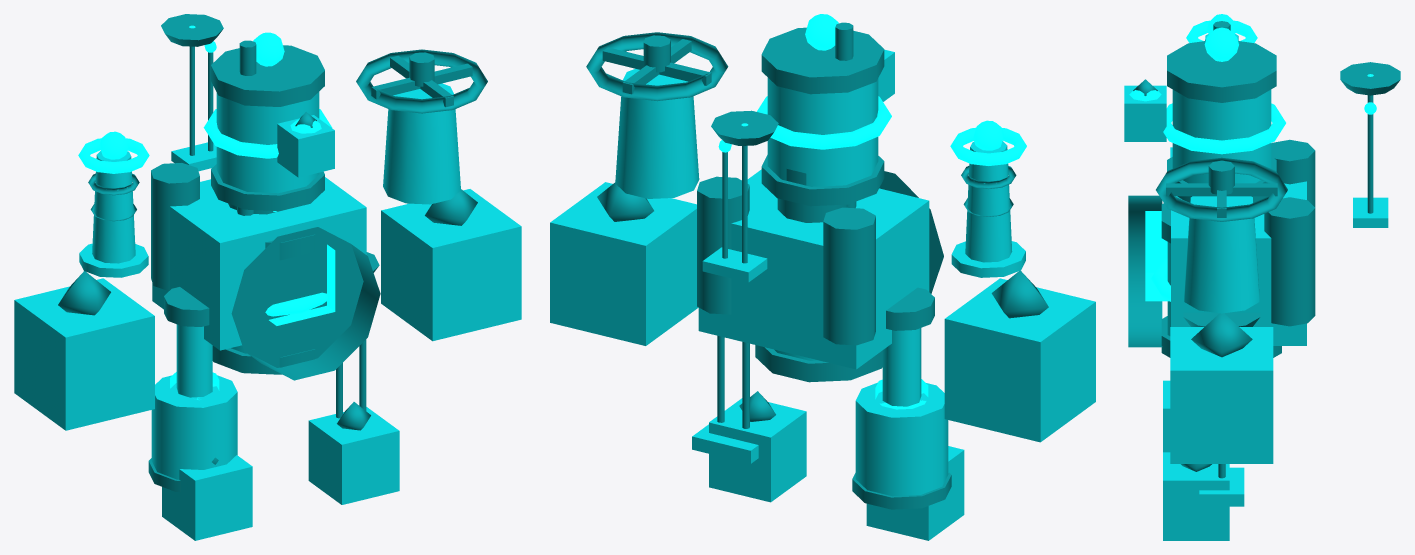
Rendered from golem_095.glb.
3 renders of one model, left to right at view 1: azimuth 30°, elevation 25°; view 2: azimuth 150°, elevation 25°; view 3: azimuth 270°, elevation 25°, orthographic. The views are drawn at different scales.
Visible parts, largest first — view 1: Body, Detail, Glow; view 2: Body, Detail, Glow; view 3: Body, Detail, Glow.
Part boxes in pixels (x1=…): Body: x1=14, y1=83, x2=521, y2=540; Detail: x1=58, y1=14, x2=487, y2=492; Glow: x1=78, y1=25, x2=335, y2=400; Body: x1=550, y1=49, x2=1095, y2=540; Detail: x1=586, y1=22, x2=1048, y2=509; Glow: x1=718, y1=14, x2=1026, y2=409; Body: x1=1124, y1=34, x2=1388, y2=540; Detail: x1=1128, y1=21, x2=1400, y2=478; Glow: x1=1129, y1=14, x2=1376, y2=301.
Bounding box in the file's own units: 1.3 × 1.26 × 0.6837.
